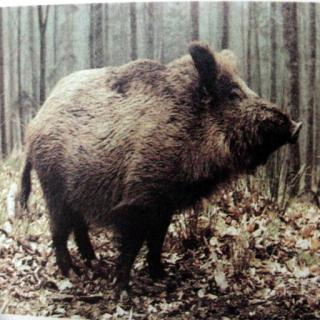Pig: (6, 17, 294, 308)
